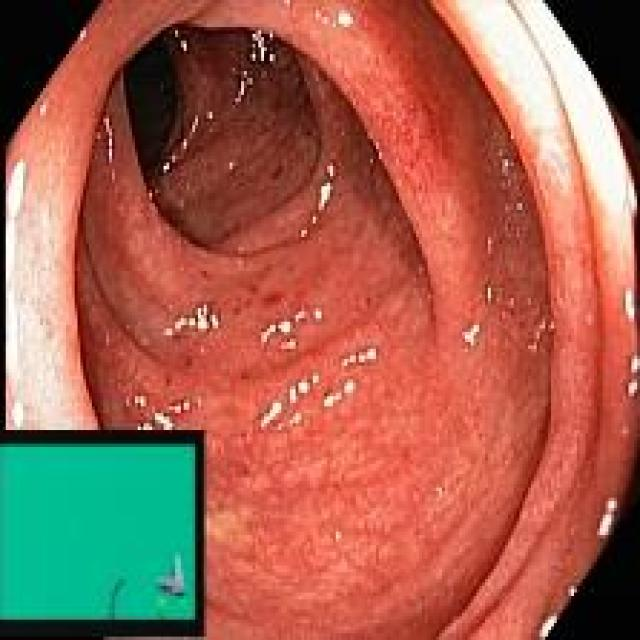ulcerative-colitis-grade-1: (75, 4, 609, 636)
